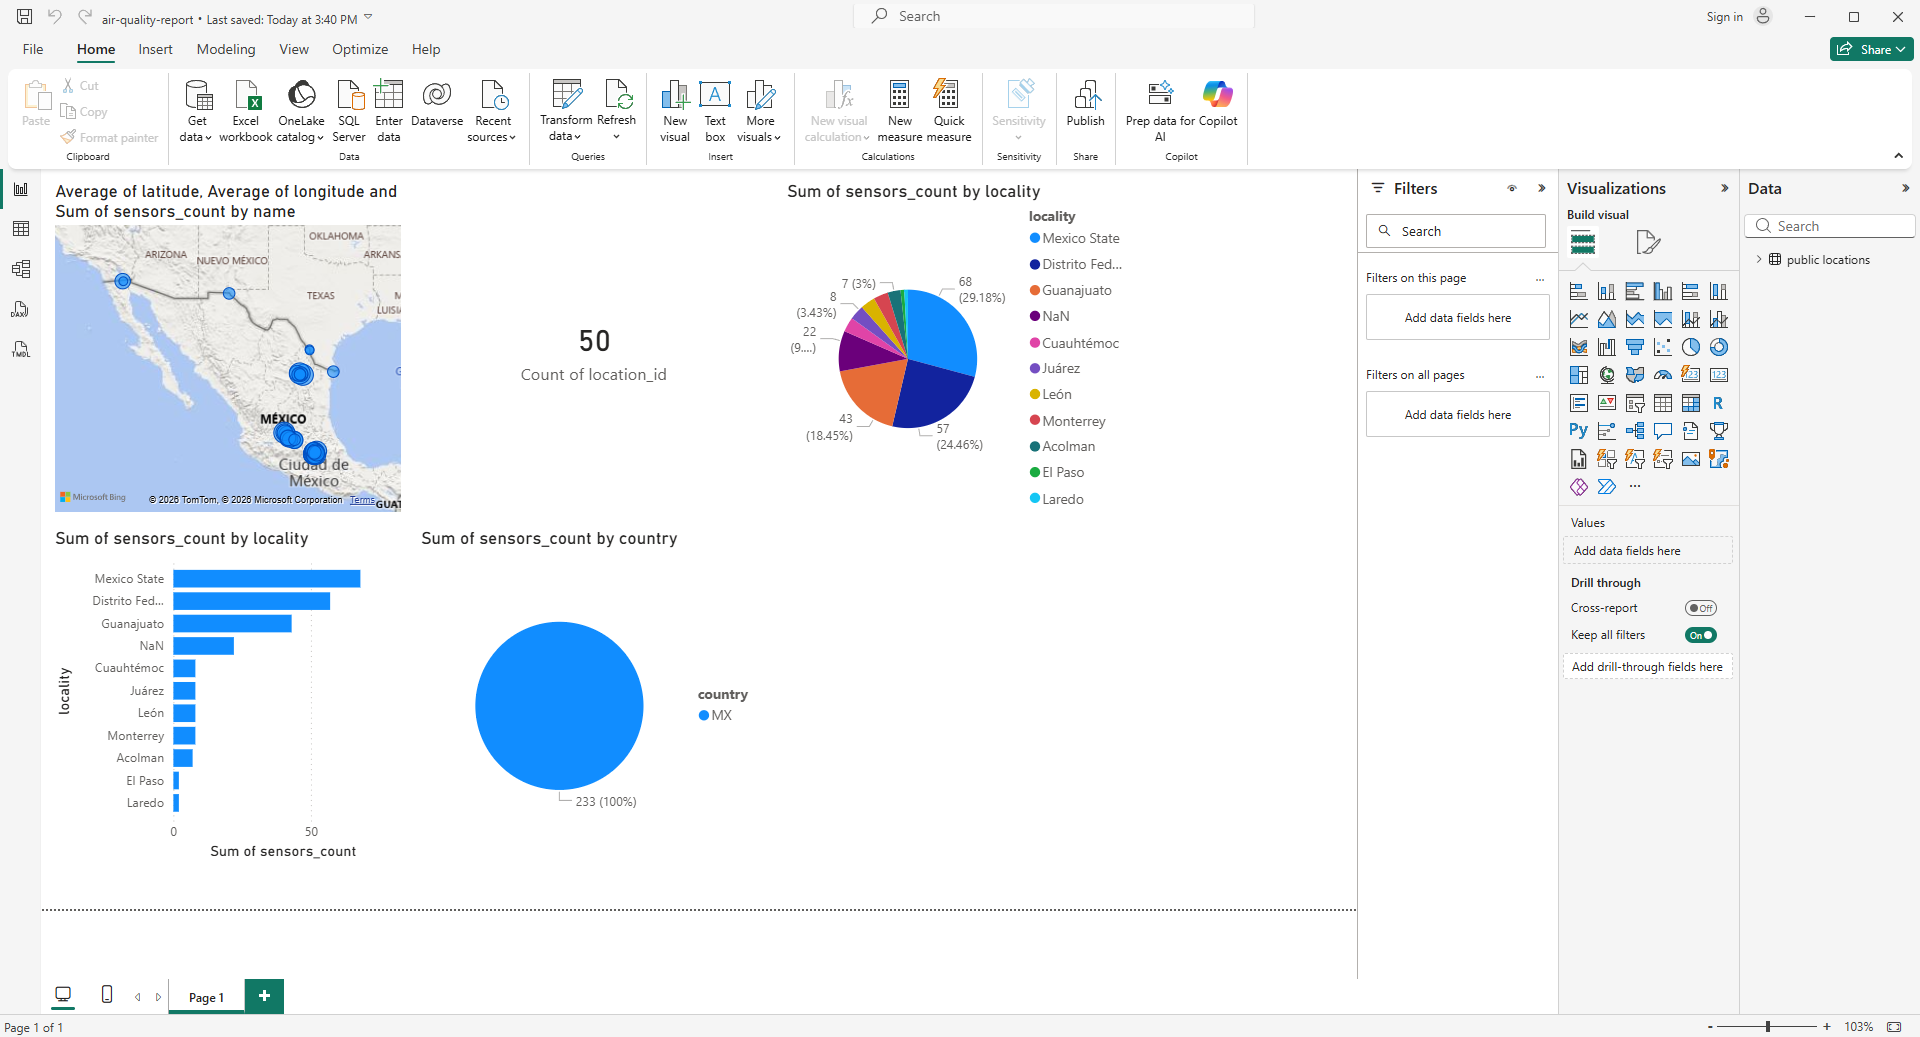

What the dashboard file says about the page in this screenshot:
{"tool":"powerbi","page":{"name":"Page 1","canvas":[1280,720],"ordinal":0},"visuals":[{"type":"map","fields":{"Y":["public locations.latitude"],"X":["public locations.longitude"],"Size":["Sum(public locations.sensors_count)"],"Category":["public locations.name"]},"box":[8.8,11.7,346.3,326.8],"z":0},{"type":"clusteredBarChart","fields":{"Category":["public locations.locality"],"Y":["Sum(public locations.sensors_count)"]},"box":[9,349,346,327],"z":1000},{"type":"card","fields":{"Values":["Count(public locations.location_id)"]},"box":[365,12,346,327],"z":2000},{"type":"pieChart","fields":{"Category":["public locations.country"],"Y":["Sum(public locations.sensors_count)"]},"box":[365,349,346,327],"z":3000},{"type":"pieChart","fields":{"Category":["public locations.locality"],"Y":["Sum(public locations.sensors_count)"]},"box":[721,12,346,327],"z":3001}]}

Visuals, with their boxes on the page's 1280x720 design canvas (x1, y1, x2, y2). These are canvas units, not pixel positions in the 1920x1037 screenshot, which may show the page scaled, cropped or inside an application window:
map - public locations.latitude x public locations.longitude: [9, 12, 355, 338]
clusteredBarChart - public locations.locality x Sum(public locations.sensors_count): [9, 349, 355, 676]
card - Count(public locations.location_id): [365, 12, 711, 339]
pieChart - public locations.country x Sum(public locations.sensors_count): [365, 349, 711, 676]
pieChart - public locations.locality x Sum(public locations.sensors_count): [721, 12, 1067, 339]
